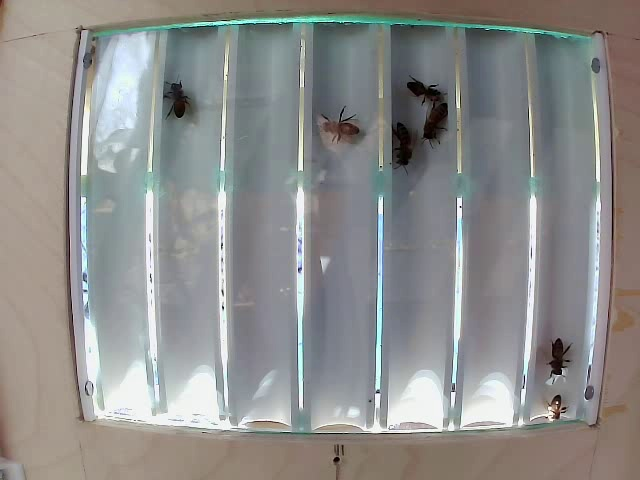bee: (312, 99, 356, 149), (384, 128, 413, 167), (405, 69, 437, 103), (163, 76, 185, 124), (417, 101, 445, 134), (548, 338, 575, 372)
